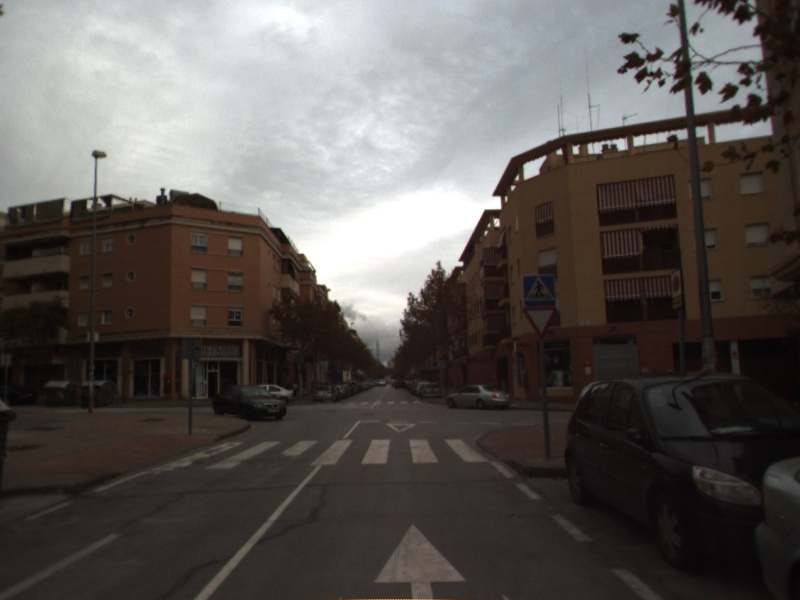STRAIGHT: (370, 520, 470, 600)
